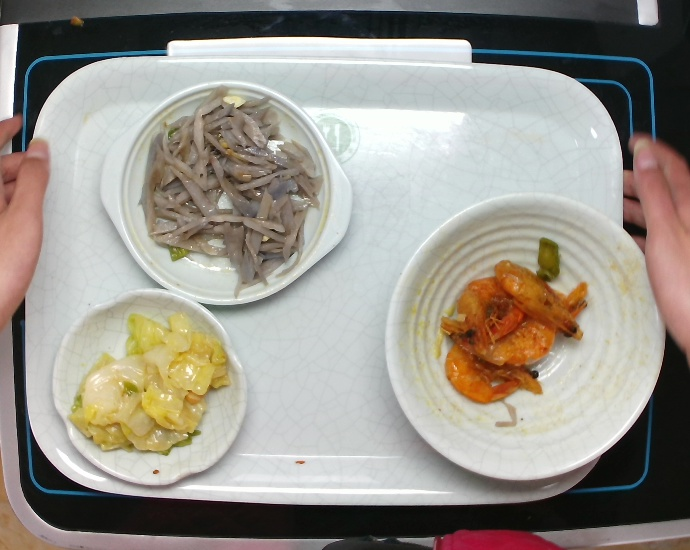JYsf-Ao_Yuan_Wan: (30, 289, 257, 490)
JYsf-Shuang_Er_Pan: (93, 80, 355, 316)
JYsf-Xiao_Tang_Wan: (379, 187, 668, 484)
